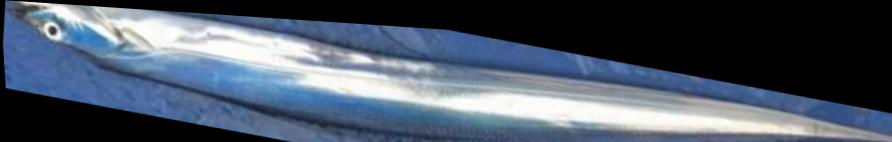fish: (15, 1, 892, 142)
